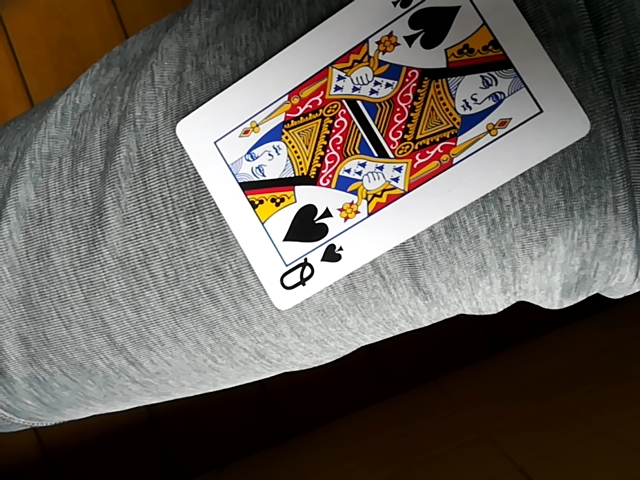ht q: (176, 0, 600, 308)
